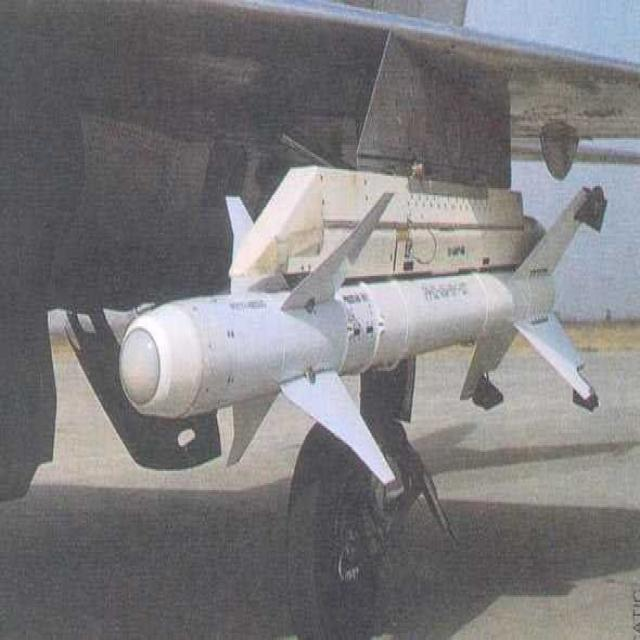missile: (118, 186, 592, 474)
